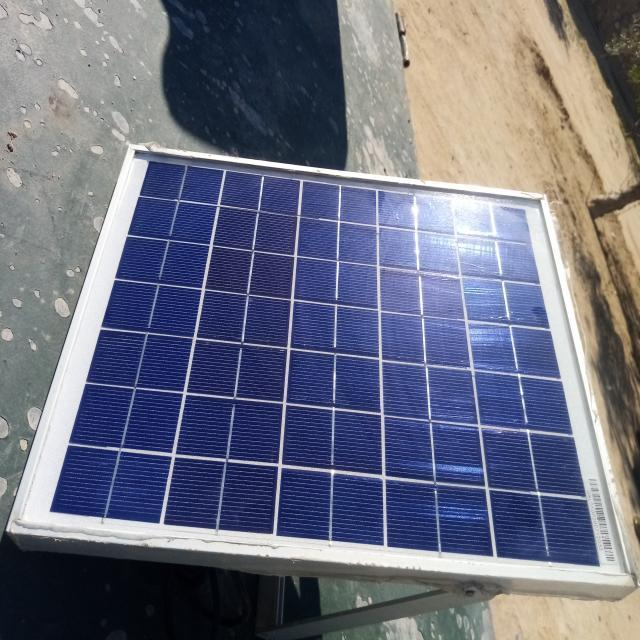Normal Solar Panel: (9, 146, 637, 587)
